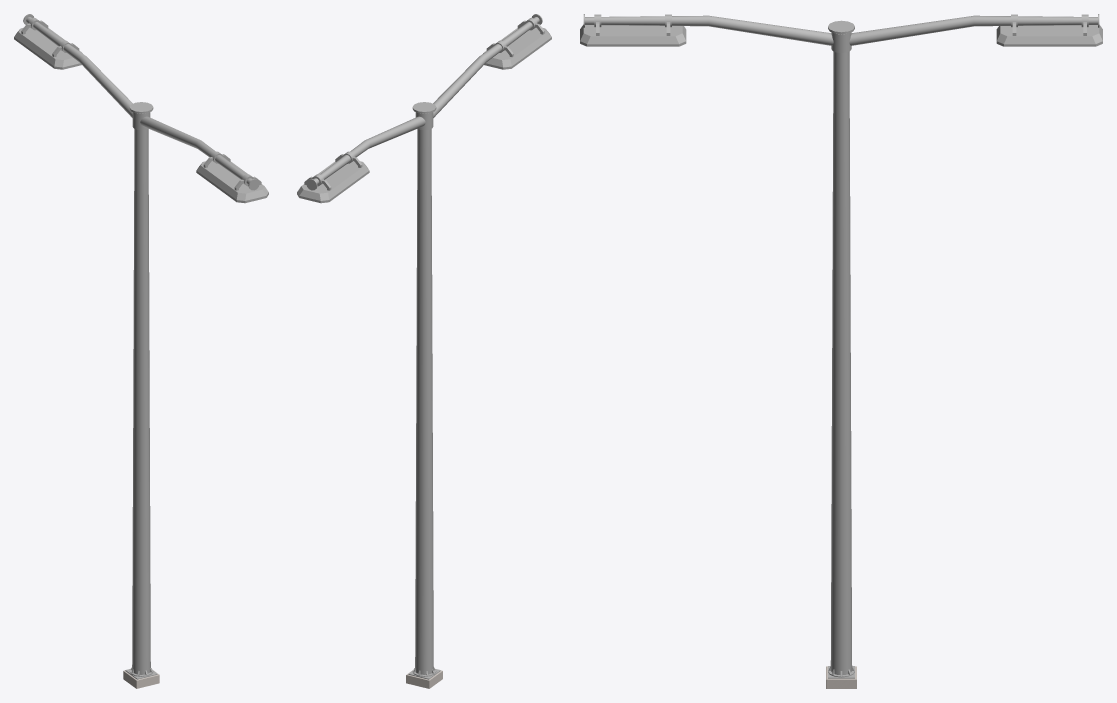
Rendered from streetlight.glb.
3 renders of one model, left to right at view 1: azimuth 30°, elevation 25°; view 2: azimuth 150°, elevation 25°; view 3: azimuth 270°, elevation 25°, orthographic. The views are drawn at different scales.
Parts seen in each view (by area): view 1: cityblockassetkit; view 2: cityblockassetkit; view 3: cityblockassetkit.
Part boxes in pixels (x1,y1,x2,y2): cityblockassetkit: (14,14,268,688); cityblockassetkit: (297,14,551,688); cityblockassetkit: (580,14,1102,688).
Size of the model in its own units: 0.6007 by 10.41 by 7.39.
4 materials, 1 textured.
